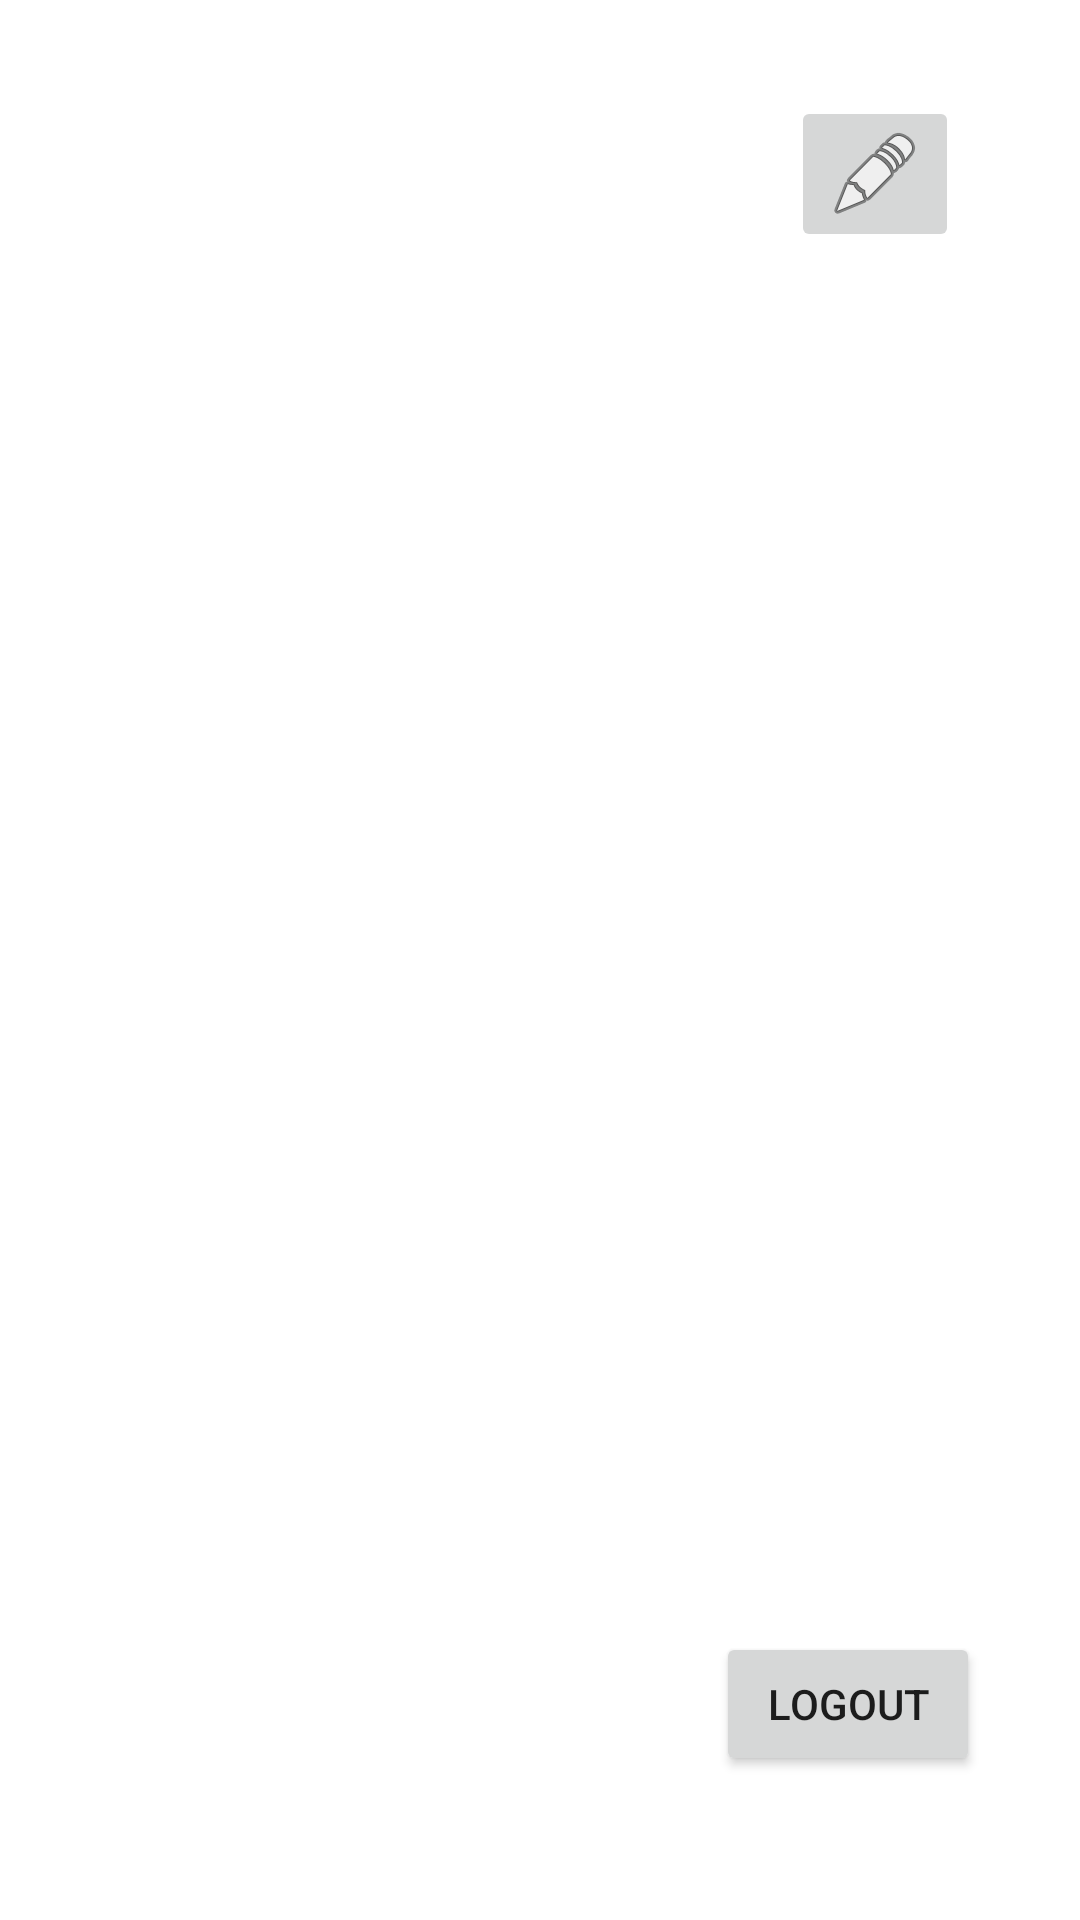

Where to tap for icons on this 1080 x 1920 app screen, as [x,y]:
edit: [875,174]
